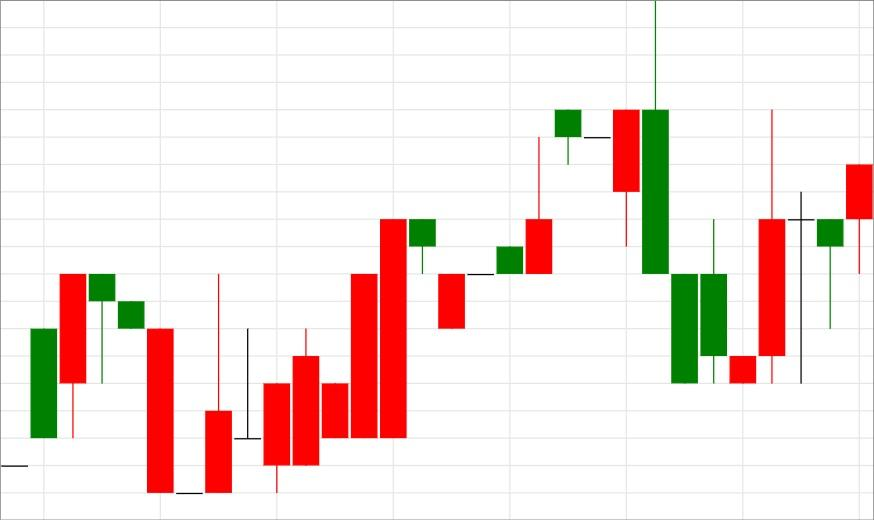hanging_man_fall: (0, 273, 116, 468)
